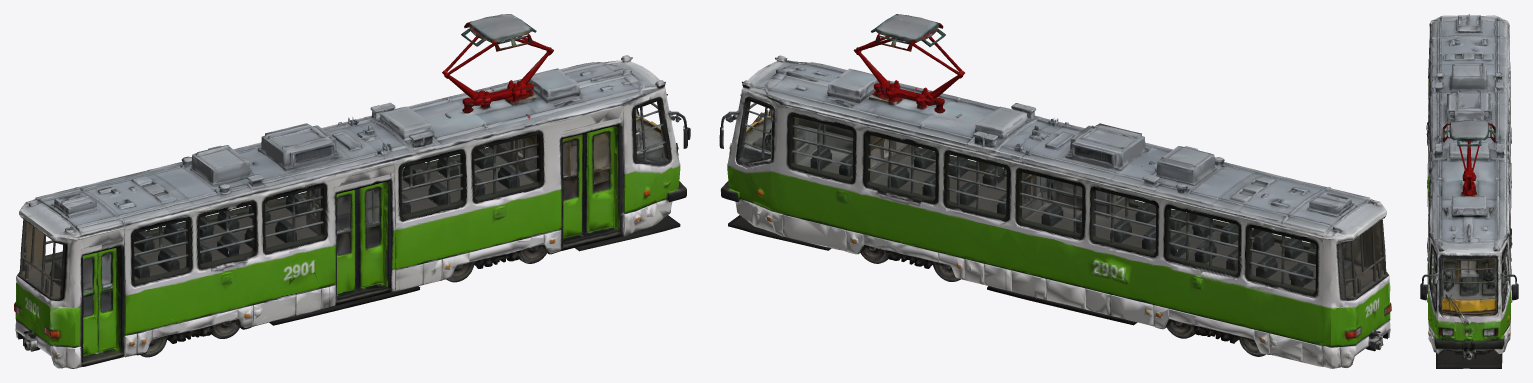
Rendered from spektr.glb.
3 views of the same model, side by side, from view 1: azimuth 30°, elevation 25°; view 2: azimuth 150°, elevation 25°; view 3: azimuth 270°, elevation 25° (orthographic). The views are drawn at different scales.
Visible parts, largest first — view 1: Spektr; view 2: Spektr; view 3: Spektr.
Boxes of the visible parts, box(x1,y1,x2,y2) form: Spektr: box(14, 14, 690, 368); Spektr: box(719, 14, 1391, 368); Spektr: box(1420, 14, 1518, 368).
Bounding box in the file's own units: 15 × 5.12 × 2.5.
Materials: 1 (1 with a texture image).
